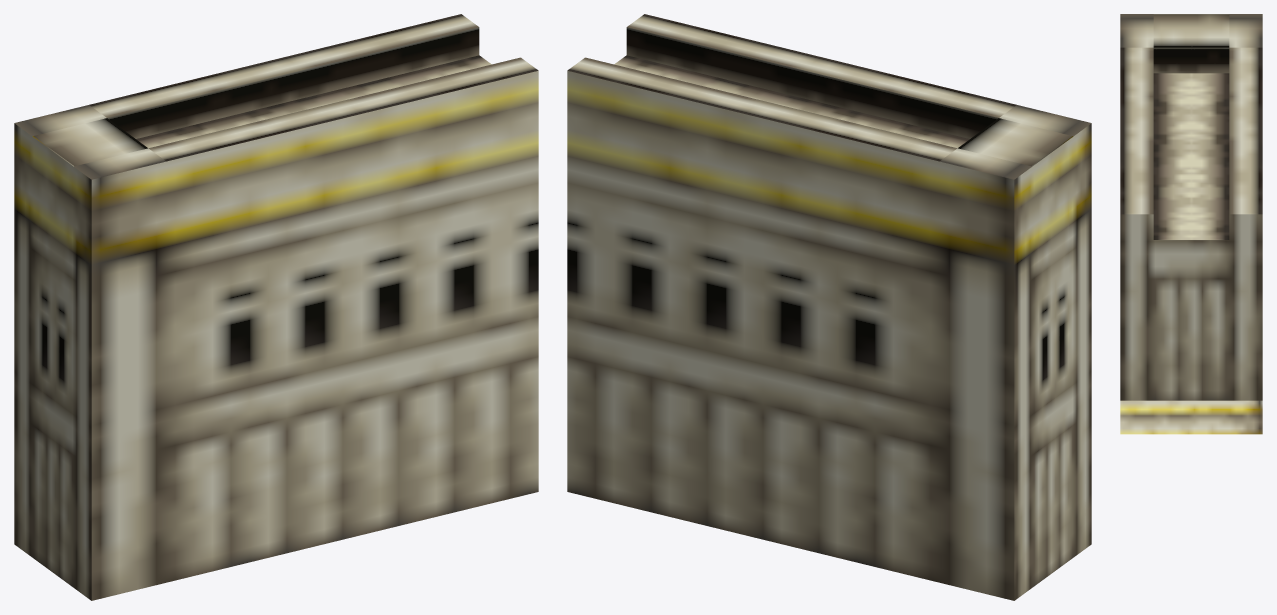
File: Poly_World_Map_Wall_01_Left_End.obj
3 renders of one model, left to right at view 1: azimuth 30°, elevation 25°; view 2: azimuth 150°, elevation 25°; view 3: azimuth 270°, elevation 25°, orthographic. The views are drawn at different scales.
Visible parts, largest first — view 1: Grid.001; view 2: Grid.001; view 3: Grid.001.
Part boxes in pixels (x1,y1,x2,y2): Grid.001: (14,14,538,600); Grid.001: (567,14,1091,600); Grid.001: (1120,14,1262,434).
Size of the model in its own units: 1 by 0.9 by 0.3.
1 material, 1 textured.
